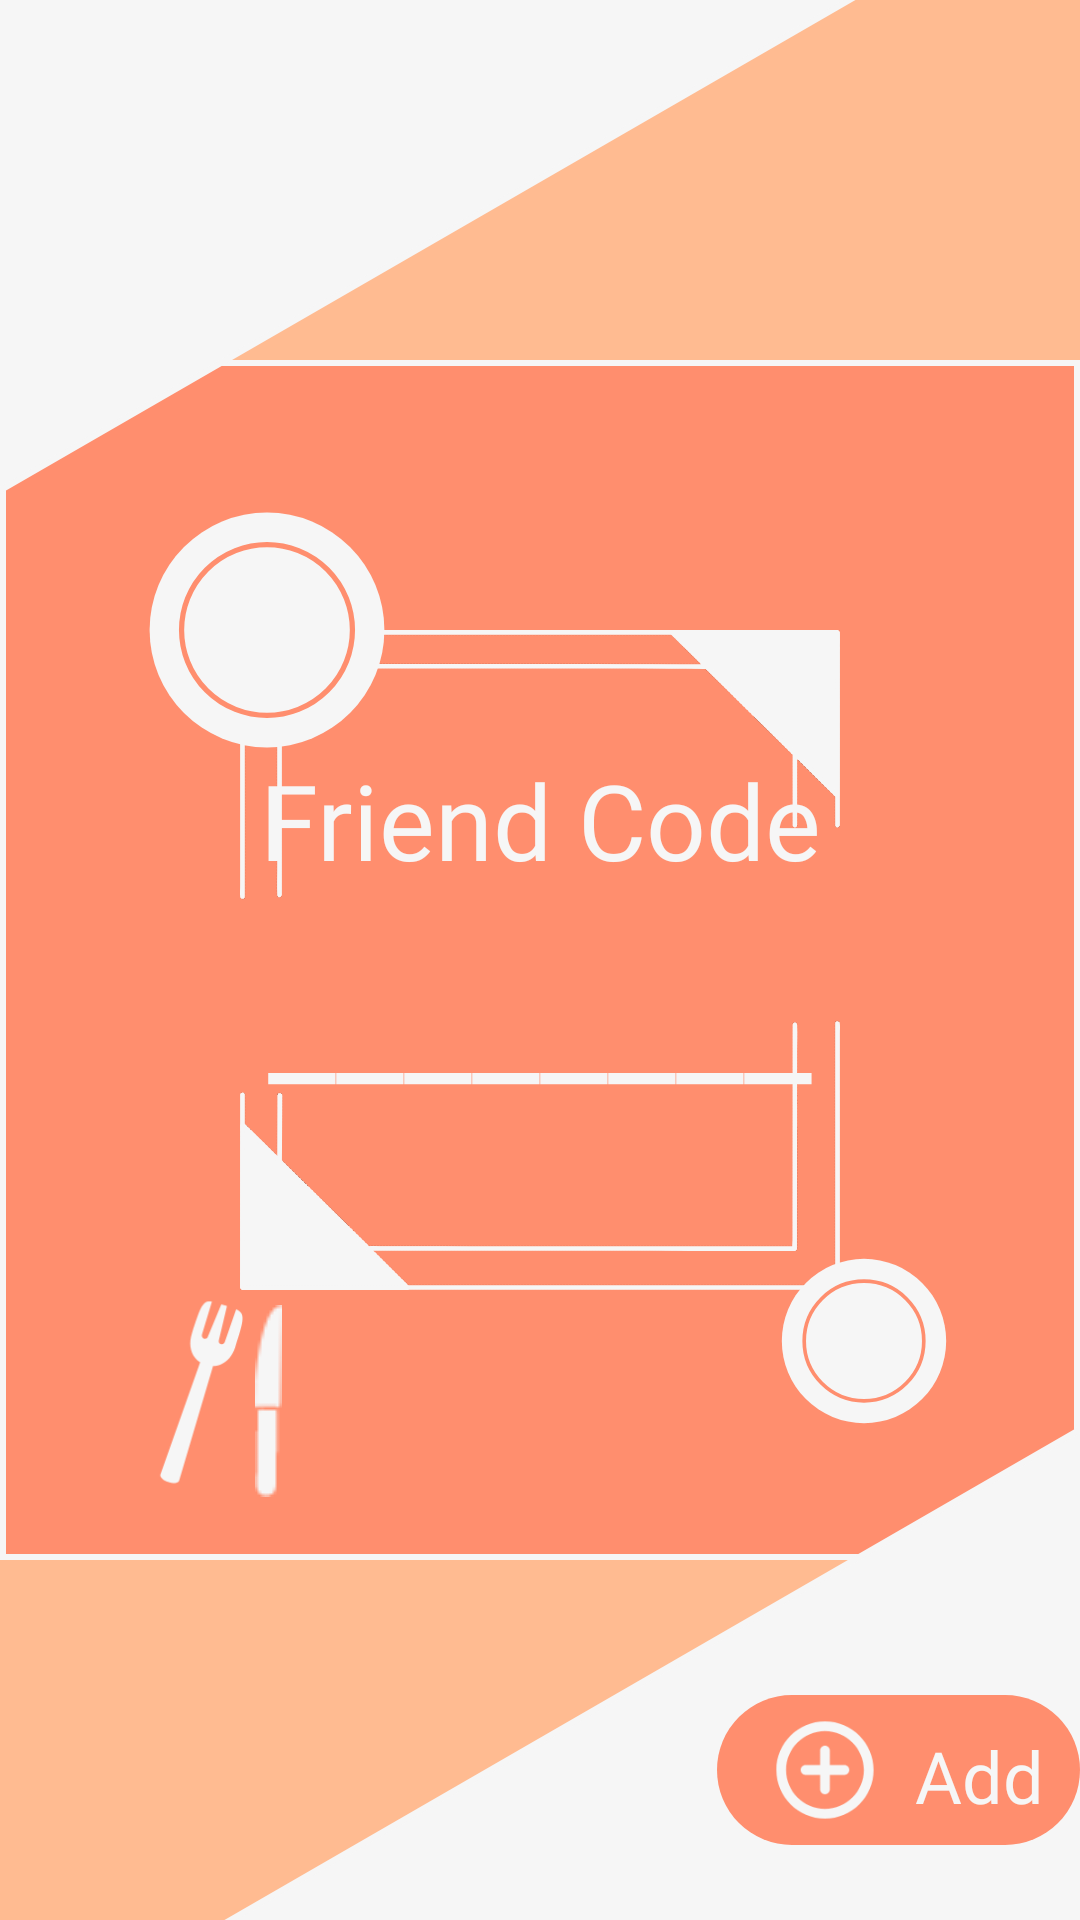

Icon bounding boxes for this 1080*1920 phone screenshot, format (left=x1, top=y1, right=x2, bottom=y2):
add circle: (left=776, top=1721, right=874, bottom=1819)
